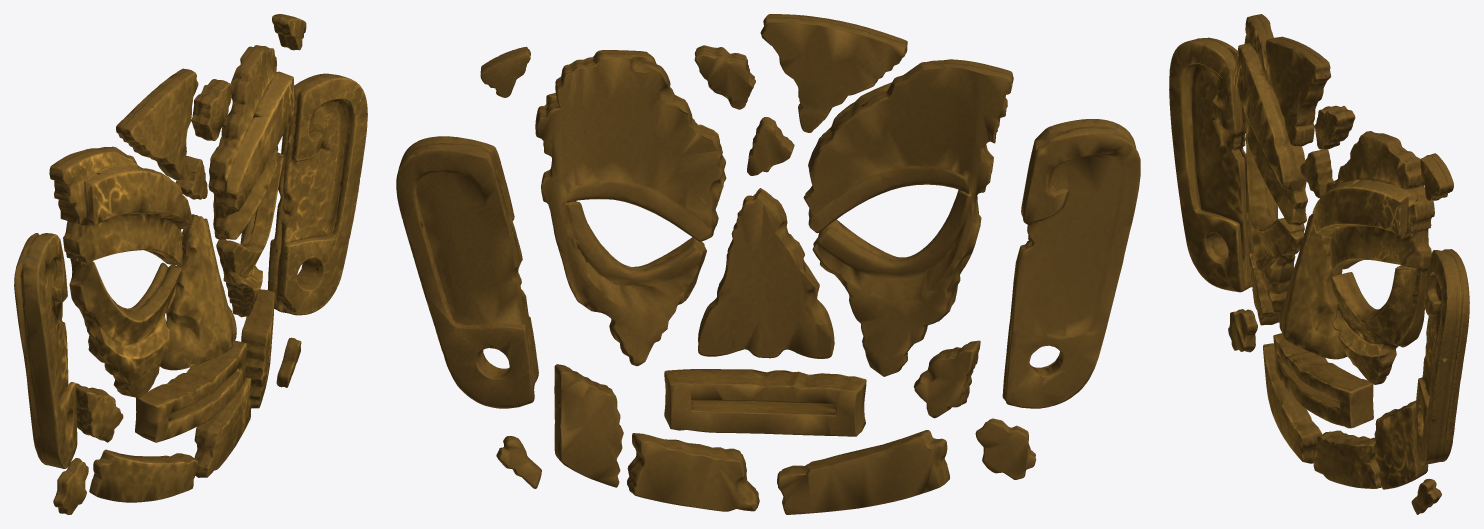
Rendered from 11-mask-fragment.glb.
3 views of the same model, side by side, from view 1: azimuth 30°, elevation 25°; view 2: azimuth 150°, elevation 25°; view 3: azimuth 270°, elevation 25° (orthographic). The views are drawn at different scales.
Parts seen in each view (by area): view 1: Meshy_AI_Shattered_Golden_Mask_0817193726_texture; view 2: Meshy_AI_Shattered_Golden_Mask_0817193726_texture; view 3: Meshy_AI_Shattered_Golden_Mask_0817193726_texture.
Part boxes in pixels (x1,y1,x2,y2): Meshy_AI_Shattered_Golden_Mask_0817193726_texture: (14, 14, 367, 514); Meshy_AI_Shattered_Golden_Mask_0817193726_texture: (396, 14, 1140, 514); Meshy_AI_Shattered_Golden_Mask_0817193726_texture: (1169, 14, 1469, 514).
Bounding box in the file's own units: 2.07 × 1.69 × 1.14.
1 material, 1 textured.
